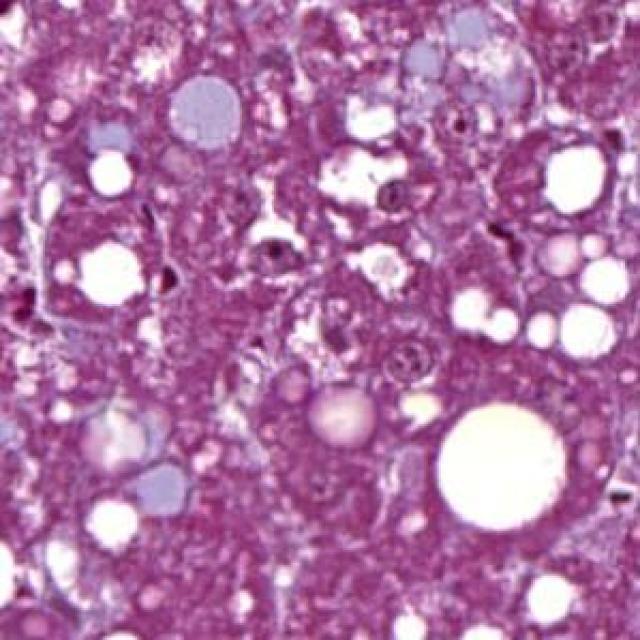steatosis: (430, 398, 574, 537)
